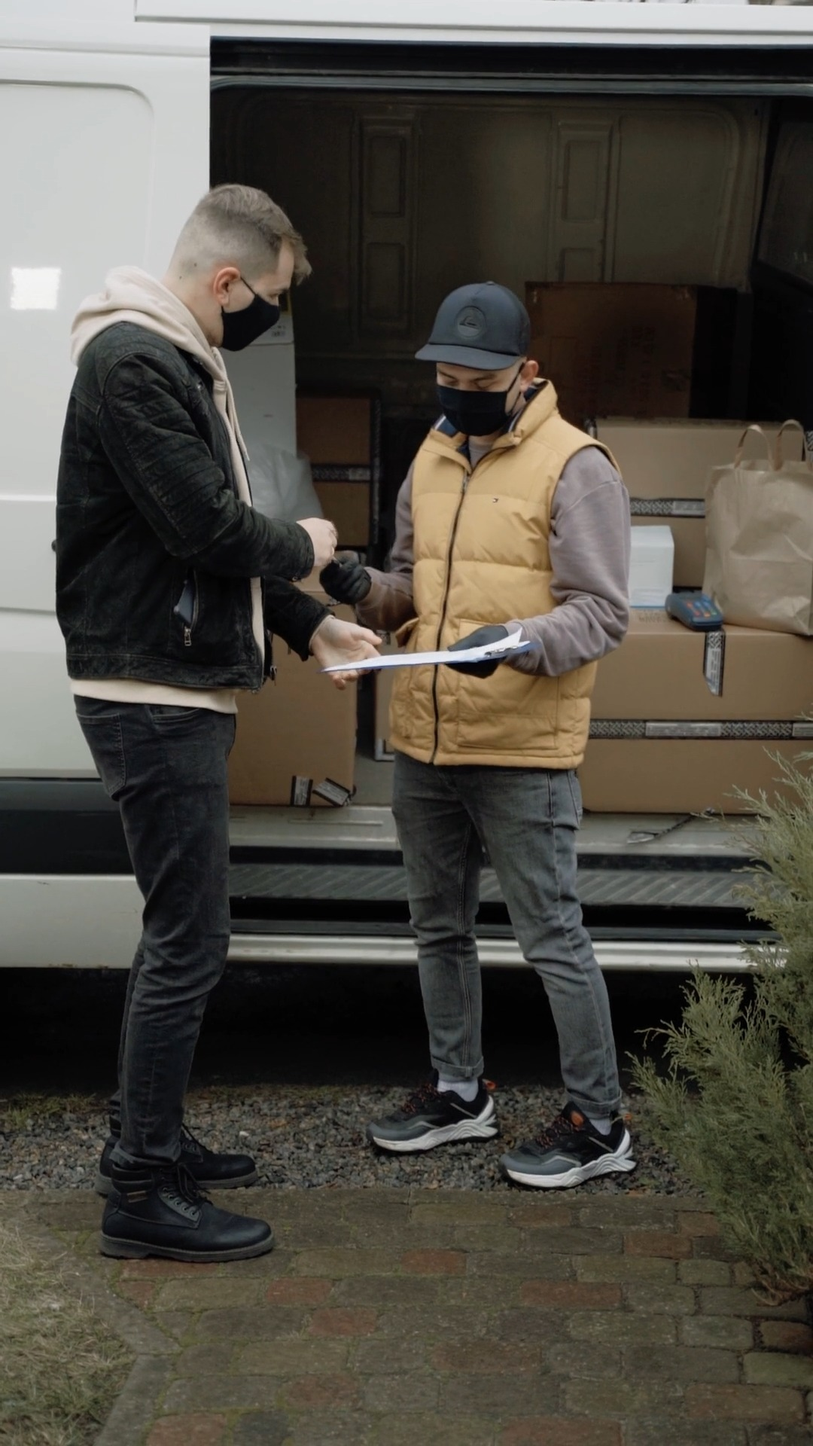No-gloves: (312, 610, 384, 698), (286, 502, 364, 578)
gloves: (443, 615, 512, 698), (309, 554, 409, 610)
